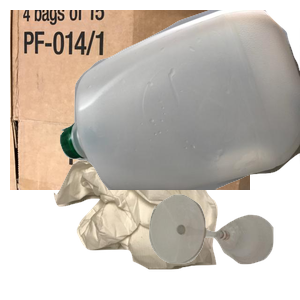cardboard: (10, 10, 250, 190)
glass: (147, 192, 300, 300)
plastic: (60, 10, 300, 190)
trash: (51, 155, 261, 300)
